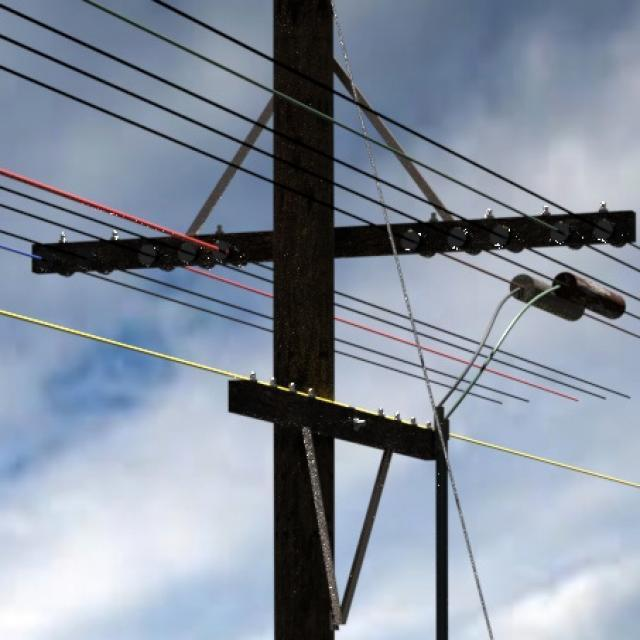crossarm: (28, 210, 633, 276), (226, 380, 446, 467)
pole: (273, 0, 340, 640)
